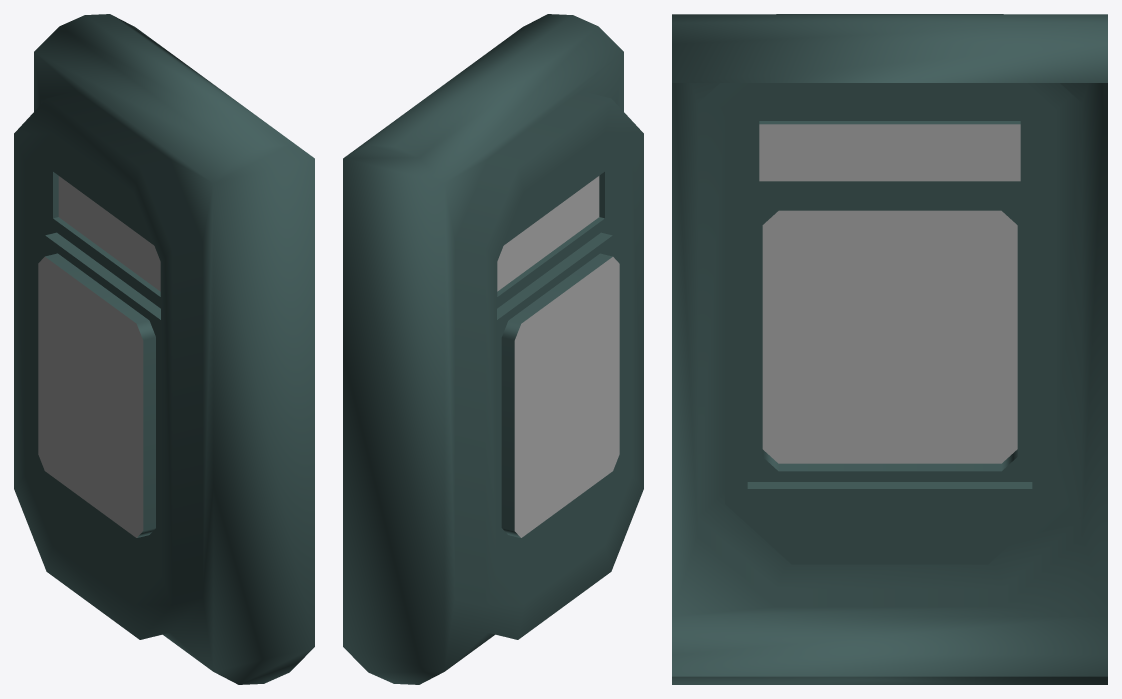
Rendered from SecuriityTerminal2.fbx.
3 renders of one model, left to right at view 1: azimuth 30°, elevation 25°; view 2: azimuth 150°, elevation 25°; view 3: azimuth 270°, elevation 25°, orthographic. The views are drawn at different scales.
Parts seen in each view (by area): view 1: Korpus, Panel, Small_sreen; view 2: Korpus, Panel, Small_sreen; view 3: Korpus, Panel, Small_sreen.
Boxes of the visible parts, <box> form: Korpus: <box>14,14,314,684</box>; Panel: <box>38,257,143,537</box>; Small_sreen: <box>58,176,160,291</box>; Korpus: <box>343,14,643,684</box>; Panel: <box>514,257,619,537</box>; Small_sreen: <box>497,176,599,291</box>; Korpus: <box>672,14,1107,684</box>; Panel: <box>762,210,1017,463</box>; Small_sreen: <box>759,124,1020,181</box>.
Bounding box in the file's own units: 17.59 × 67.24 × 40.68.
